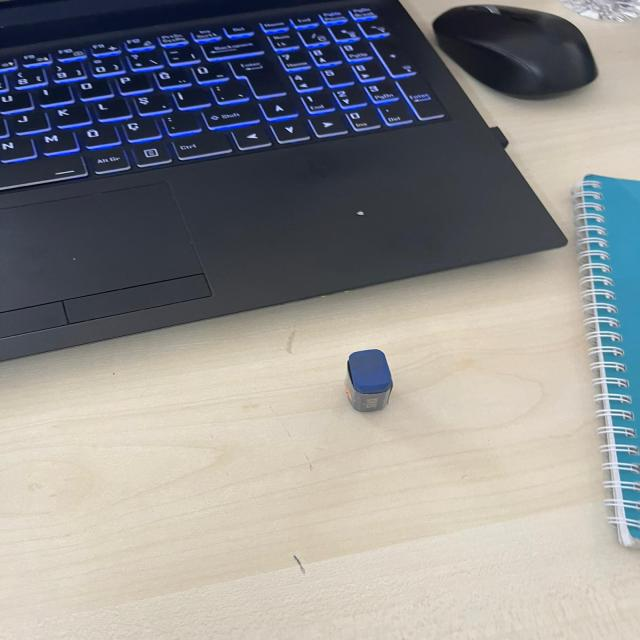eraser: (328, 343, 403, 418)
